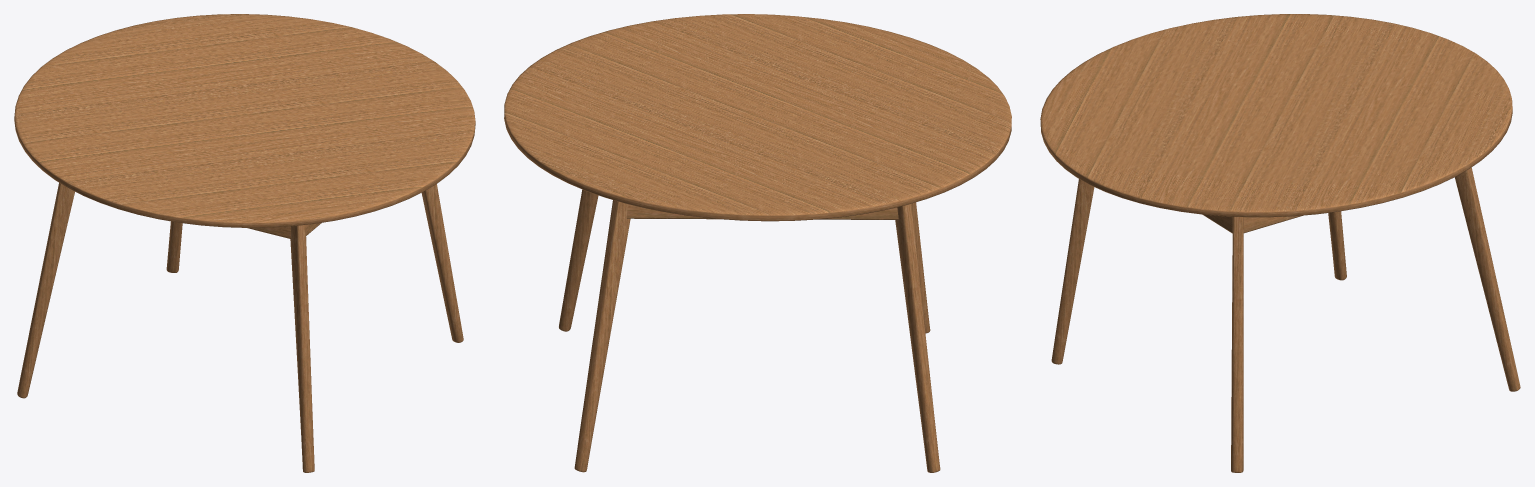
Rendered from table2.glb.
3 renders of one model, left to right at view 1: azimuth 30°, elevation 25°; view 2: azimuth 150°, elevation 25°; view 3: azimuth 270°, elevation 25°, orthographic. The views are drawn at different scales.
Parts seen in each view (by area): view 1: Object_20; view 2: Object_20; view 3: Object_20.
Boxes of the visible parts, x1=… form: Object_20: x1=14, y1=14, x2=475, y2=472; Object_20: x1=504, y1=14, x2=1011, y2=472; Object_20: x1=1040, y1=14, x2=1520, y2=472.
Bounding box in the file's own units: 15.37 × 10.04 × 15.61.
Materials: 1 (1 with a texture image).
